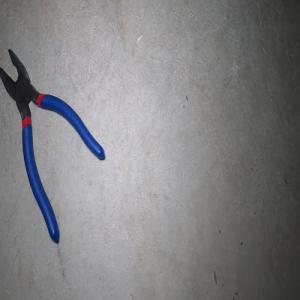Pliers: (0, 48, 105, 243)
